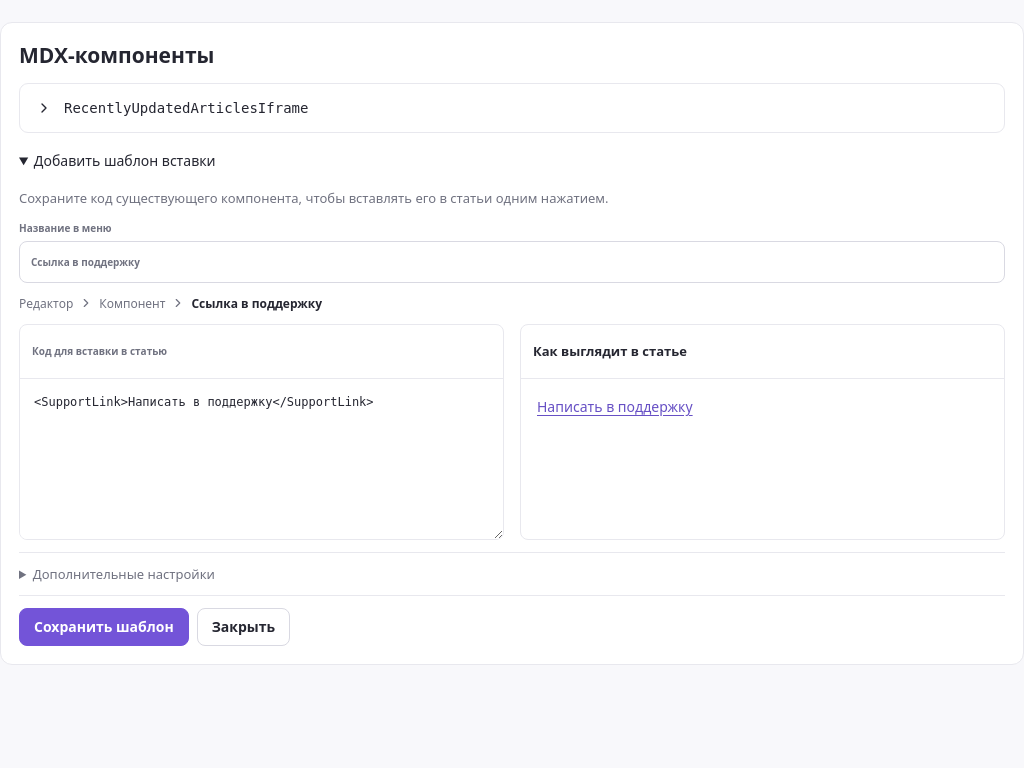
Scenario: closes a new template form and reports save failures
Clear the field labelled "Название в меню". click: (512, 262)
box: [19, 241, 1005, 283]
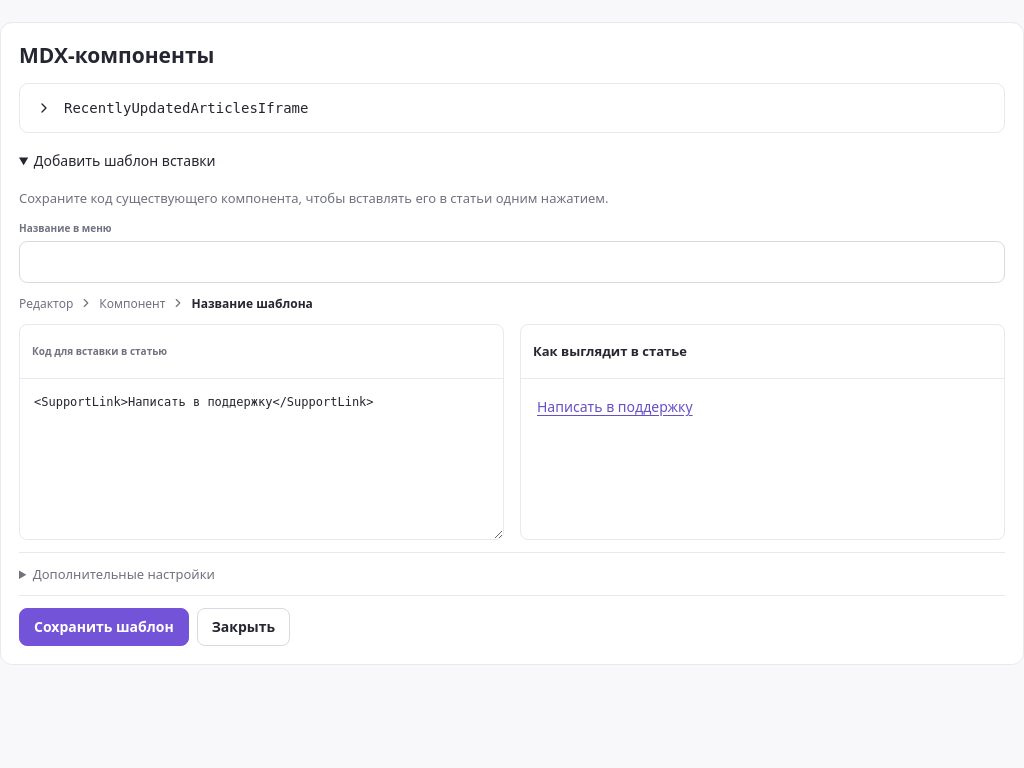
Replace the text in the text box labelled "Код для вставки в статью" with "<SupportLink />". click: (262, 459)
box: [20, 379, 503, 539]
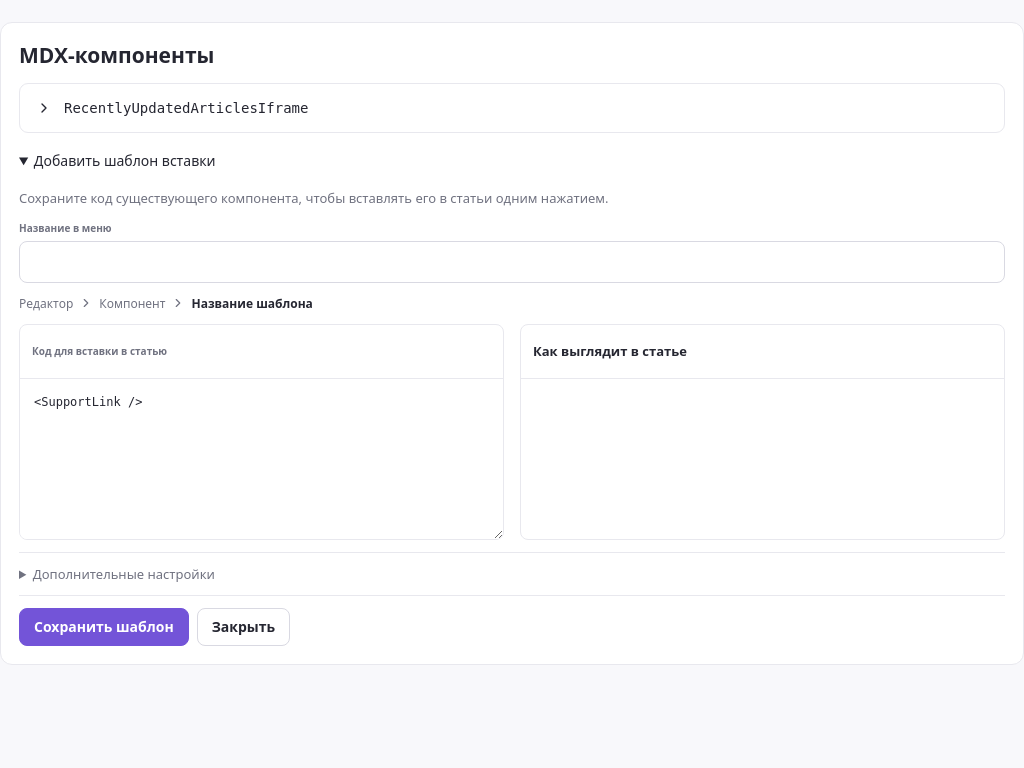
Submit the form named "Сохранить шаблон", box [19, 182, 1005, 646]
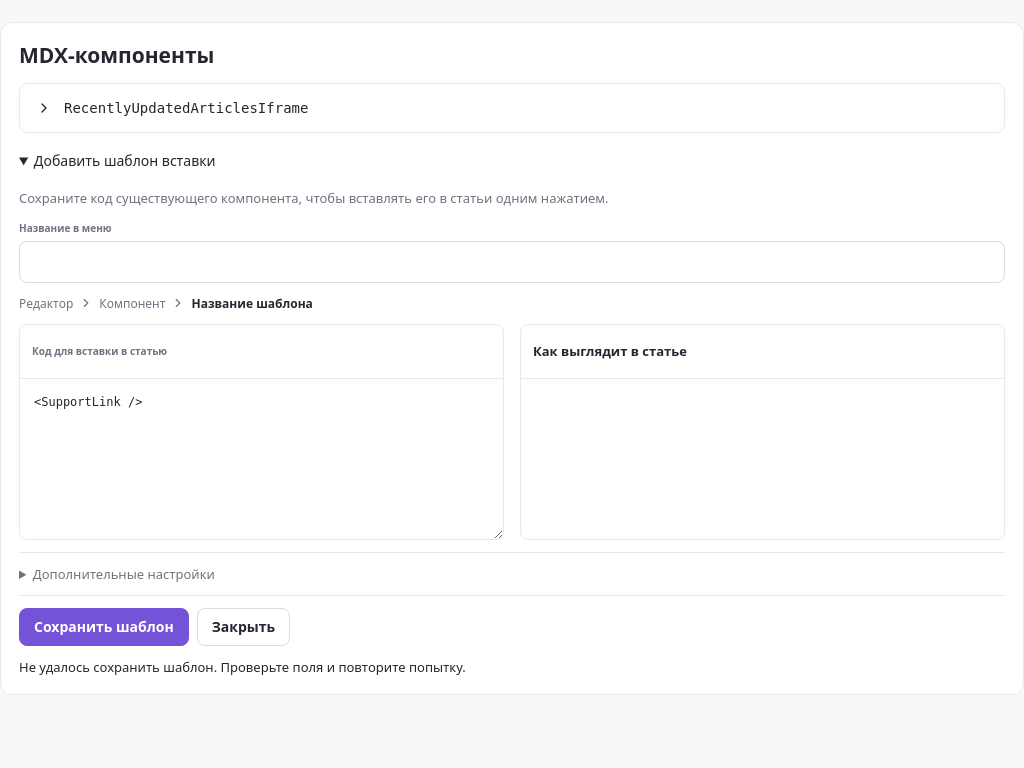
Now the message shows "Не удалось сохранить", box [19, 658, 466, 676]
Click the button "Закрыть". click: (243, 627)
box: [197, 608, 290, 646]
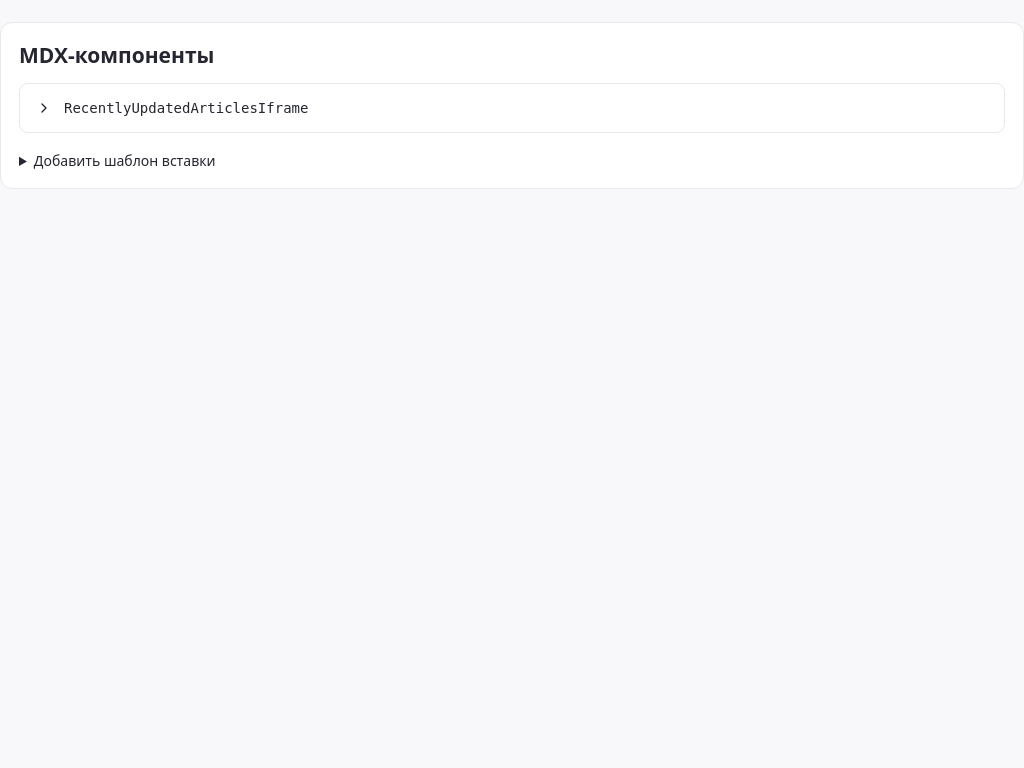
Now the label labelled "Код для вставки в статью" is gone
